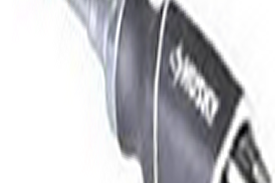Screwdriver: (56, 1, 275, 183)
